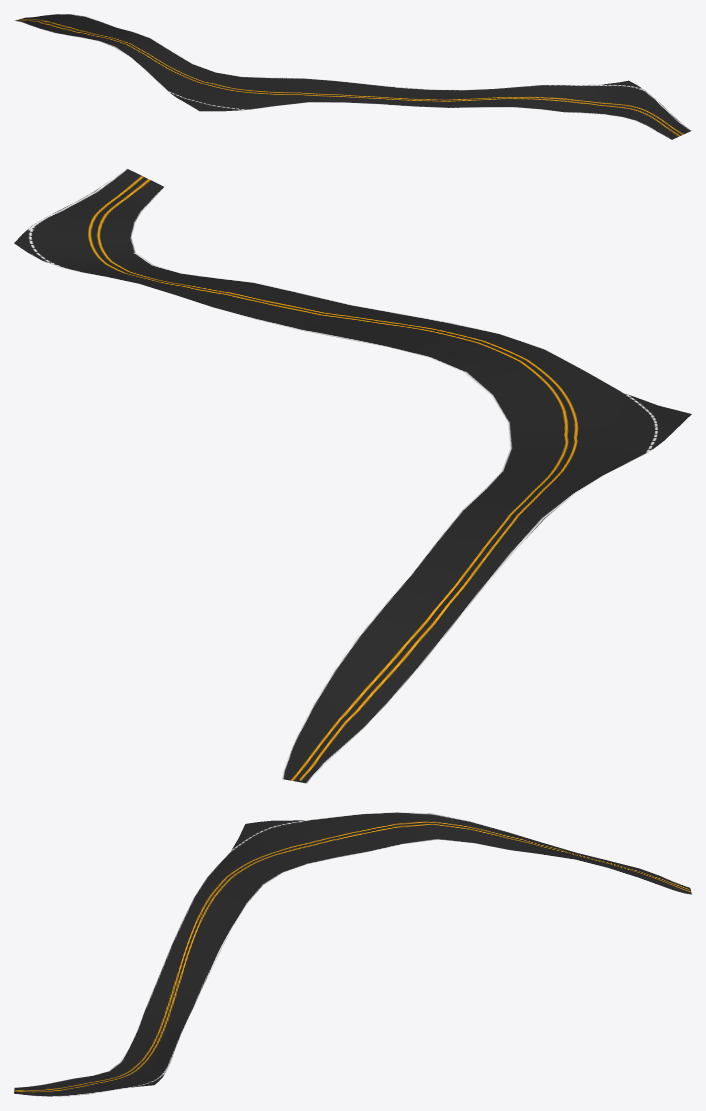
File: Roadway.fbx
3 views of the same model, one above another, from view 1: azimuth 30°, elevation 25°; view 2: azimuth 150°, elevation 25°; view 3: azimuth 270°, elevation 25° (orthographic). The views are drawn at different scales.
Parts seen in each view (by area): view 1: polySurface2889; view 2: polySurface2889; view 3: polySurface2889.
Boxes of the visible parts, bbox=[...] form: polySurface2889: bbox=[14, 14, 691, 139]; polySurface2889: bbox=[14, 168, 691, 783]; polySurface2889: bbox=[14, 812, 691, 1096].
Size of the model in its own units: 30059 by 4300 by 38118.
